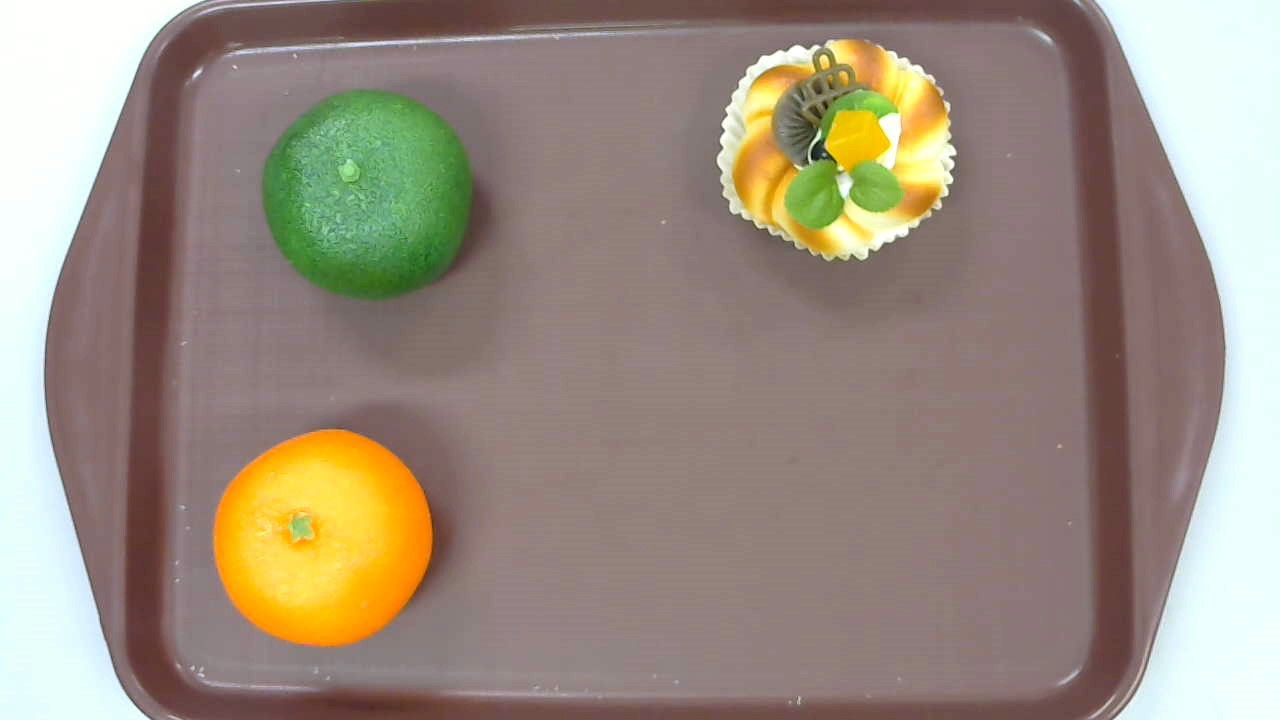fruit tart: (716, 37, 957, 263)
green orange: (263, 90, 472, 298)
orange: (212, 428, 434, 646)
